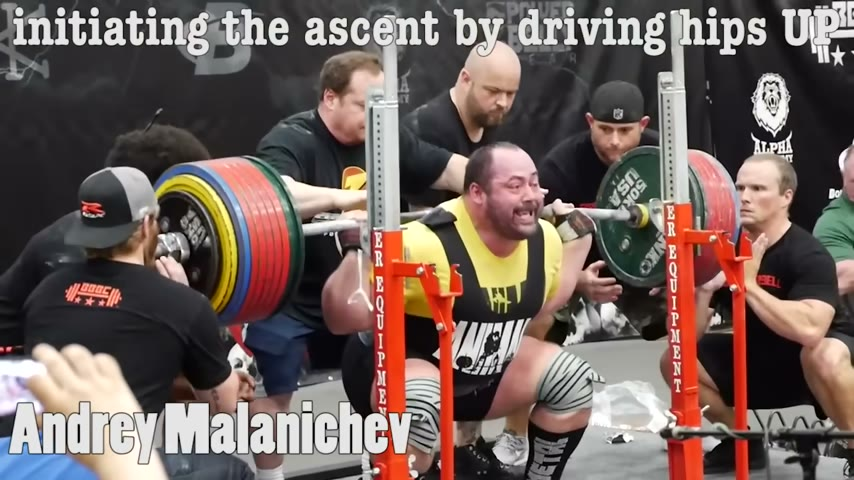barbell_plate_side: (49, 110, 203, 408), (643, 146, 759, 311)
